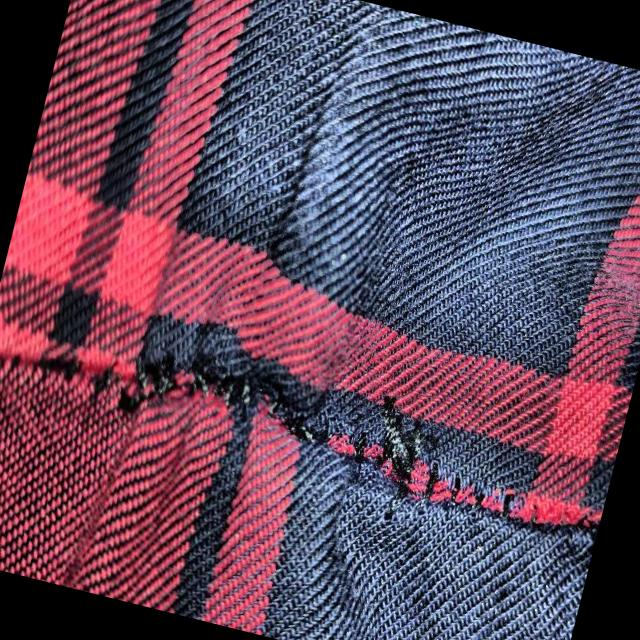gray stitch: (99, 315, 556, 547)
